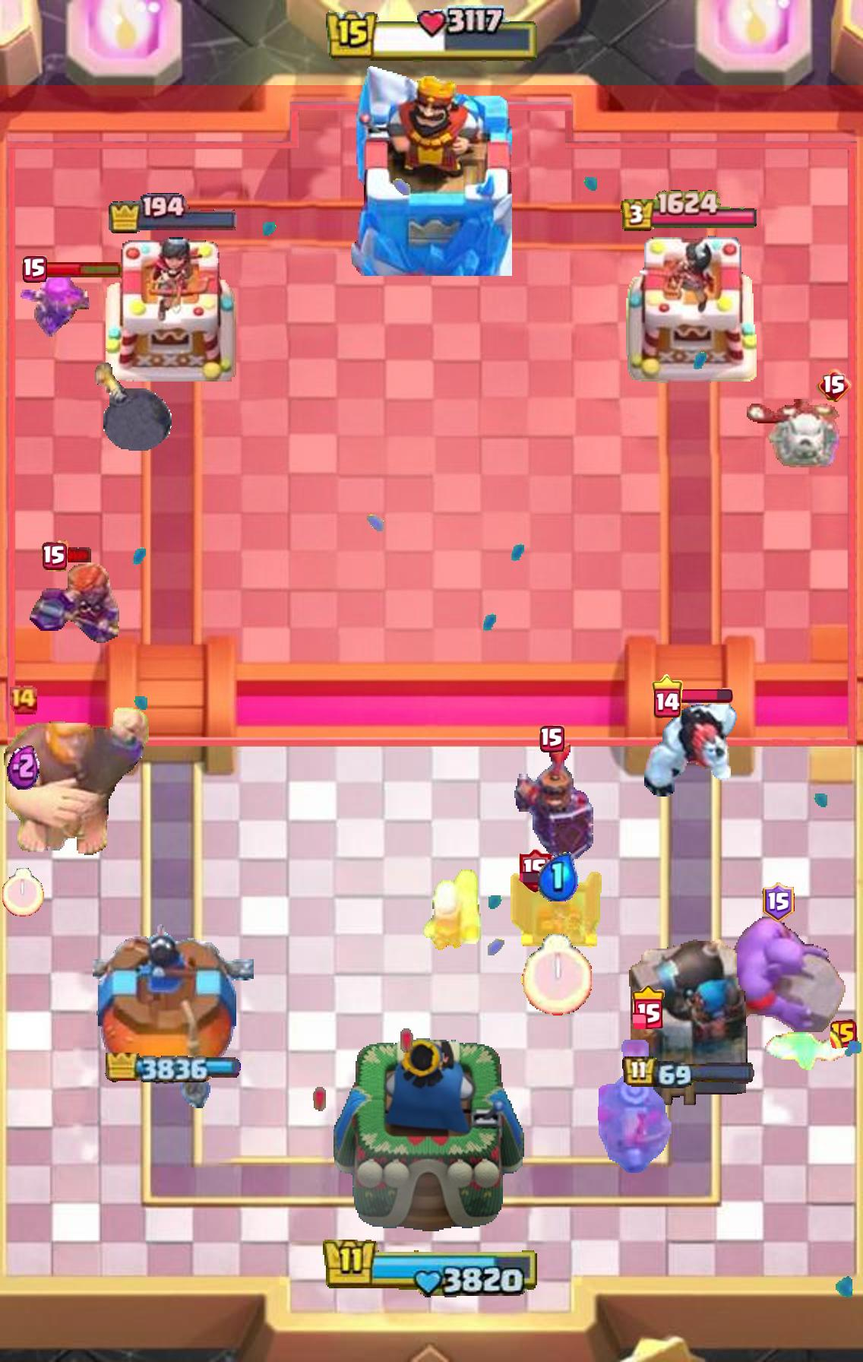bar: (43, 260, 123, 278), (678, 688, 733, 705), (65, 546, 93, 565)
bar-level: (518, 849, 553, 893), (632, 985, 665, 1029), (651, 674, 683, 718), (762, 882, 794, 922), (816, 369, 852, 402), (8, 685, 38, 715), (41, 541, 68, 572), (830, 1019, 858, 1048), (22, 255, 47, 283), (539, 725, 564, 752)
